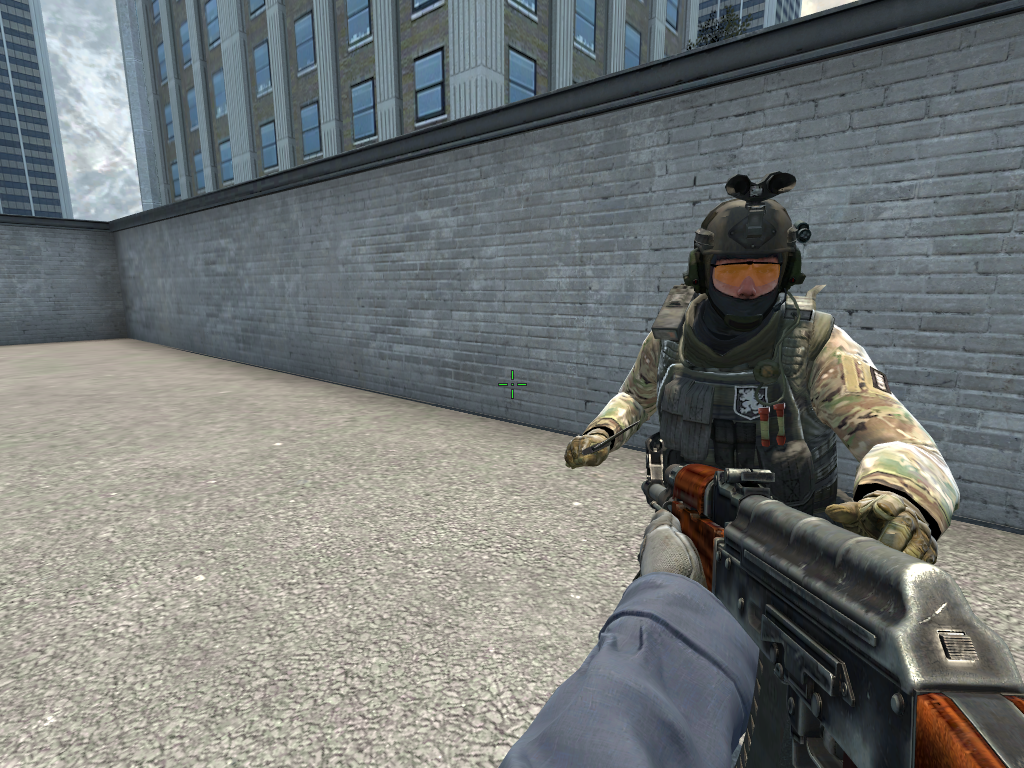ct head: (679, 168, 814, 334)
